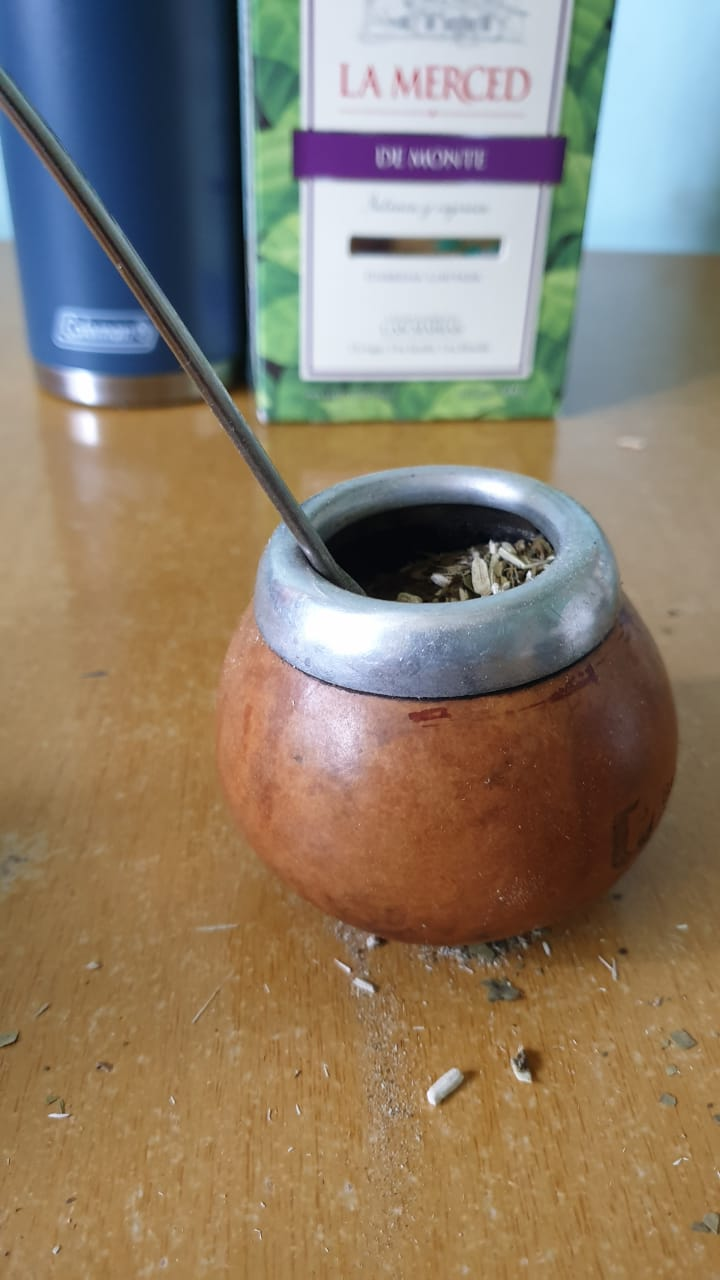calabaza: (199, 466, 687, 950)
mate: (191, 442, 702, 950)
